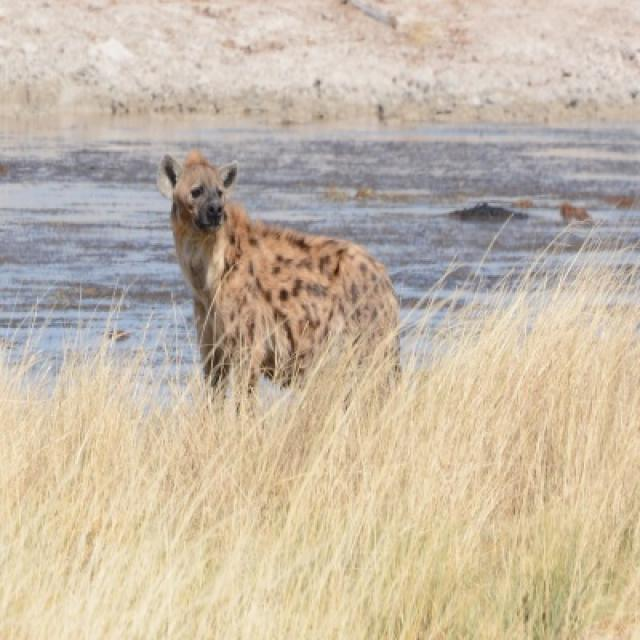hyena: (157, 150, 398, 390)
